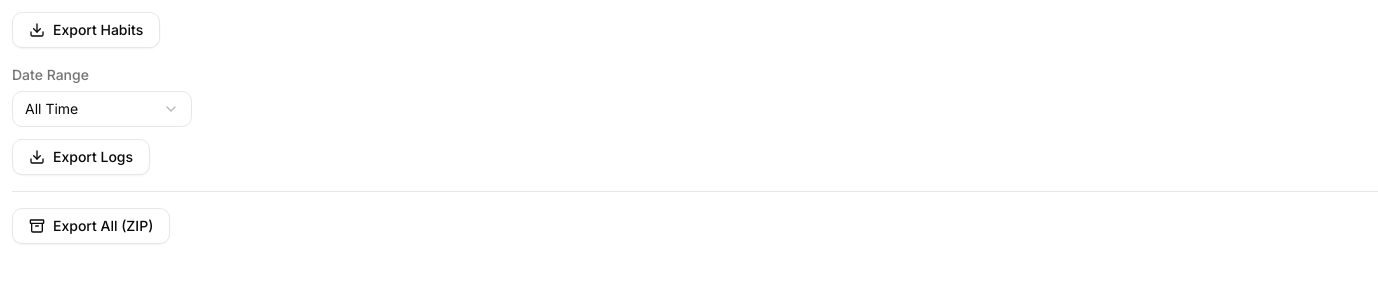
Test: DataExport › loading state › shows 'Downloading...' after fetch resolves but before blob completes
Step 1. Click the button "Export Habits" → (86, 30), box left=12, top=12, right=160, bottom=48
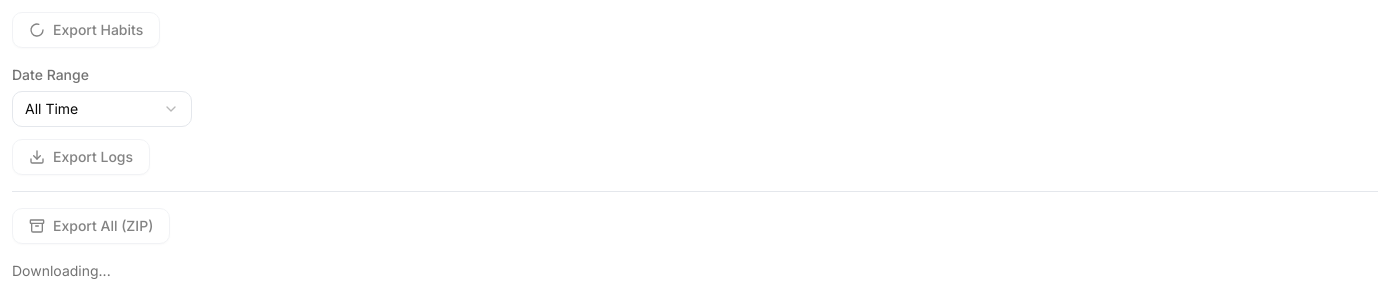
Now the text "Downloading..." is shown, box left=12, top=262, right=111, bottom=279
